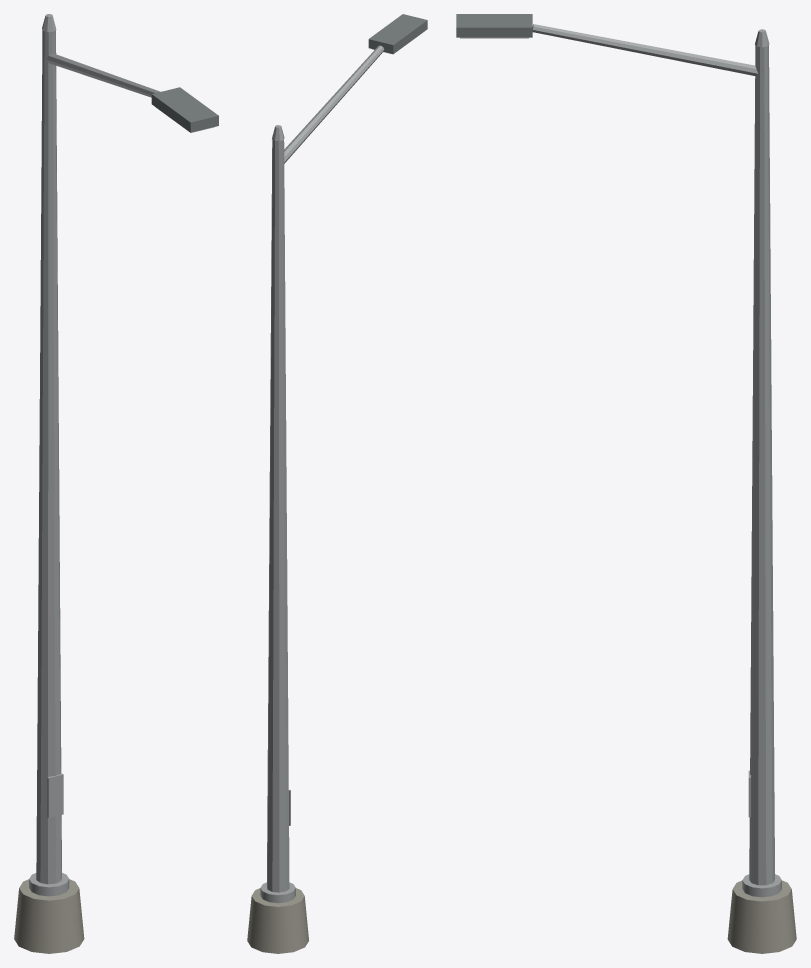
The model's file is street_lamp_single_lod1.glb.
3 views of the same model, side by side, from view 1: azimuth 30°, elevation 25°; view 2: azimuth 150°, elevation 25°; view 3: azimuth 270°, elevation 25° (orthographic). The views are drawn at different scales.
Visible parts, largest first — view 1: street_lamp_single; view 2: street_lamp_single; view 3: street_lamp_single.
Part boxes in pixels (x1,y1,x2,y2): street_lamp_single: (14, 14, 218, 953); street_lamp_single: (247, 14, 427, 953); street_lamp_single: (456, 14, 796, 953).
Size of the model in its own units: 0.56 by 8.21 by 2.76.
2 materials, 1 textured.
